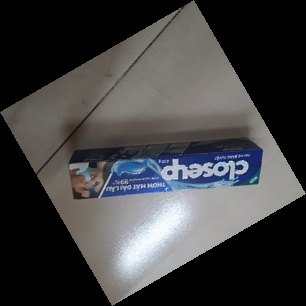CloseUp Tuyet: (67, 137, 264, 201)
